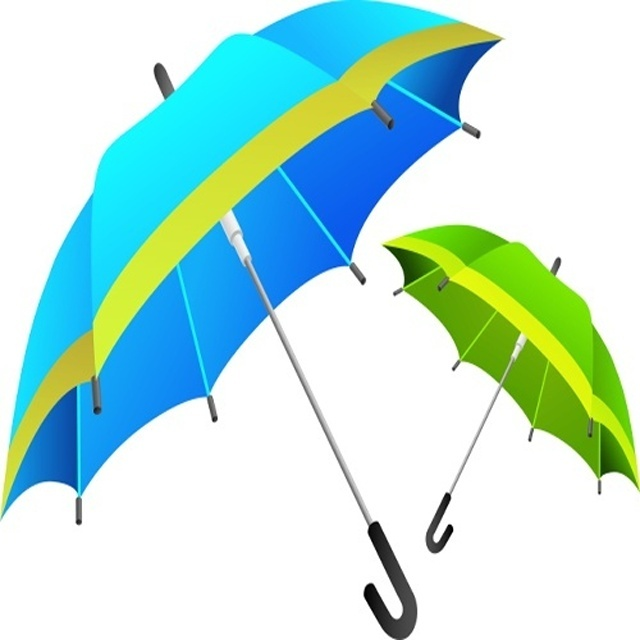umbrella: (1, 1, 505, 640), (380, 222, 640, 559)
